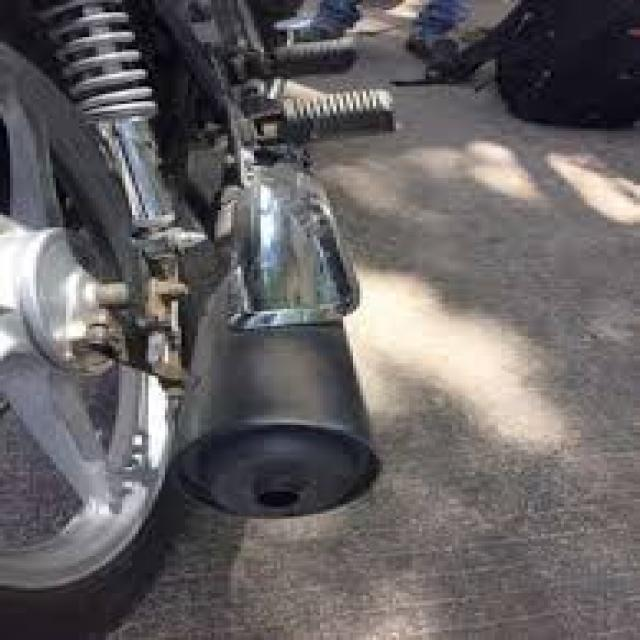bike: (7, 3, 574, 635)
